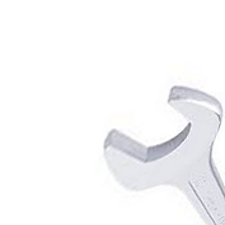wrench: (97, 79, 225, 224)
